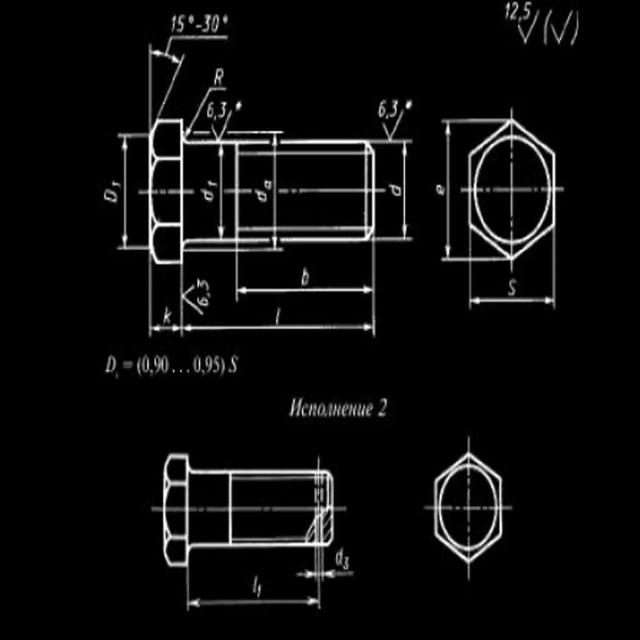marking_line: (181, 268, 378, 337), (233, 251, 380, 302), (465, 263, 557, 310), (375, 138, 413, 242), (441, 118, 467, 264), (118, 130, 147, 253), (147, 267, 185, 337), (164, 27, 230, 55), (269, 134, 279, 247), (216, 145, 226, 238)
numeric: (201, 12, 214, 33), (378, 397, 390, 418), (388, 98, 398, 119), (510, 0, 520, 21), (211, 13, 221, 33), (218, 99, 227, 120), (161, 355, 170, 375), (206, 102, 215, 121), (197, 276, 210, 289), (523, 0, 531, 21), (378, 98, 385, 120), (153, 354, 161, 373), (193, 355, 201, 373), (171, 14, 178, 33), (205, 356, 212, 375), (197, 296, 210, 306), (212, 355, 219, 373), (177, 14, 183, 34), (143, 355, 150, 372), (110, 181, 123, 190), (505, 0, 510, 21), (207, 181, 219, 189)
special_symbol: (184, 570, 326, 611), (146, 42, 187, 117), (185, 83, 227, 138), (321, 549, 356, 579), (516, 9, 540, 45), (296, 547, 318, 581), (551, 10, 572, 44), (211, 109, 234, 139), (381, 112, 400, 142), (569, 12, 581, 48), (542, 9, 552, 46), (220, 356, 226, 377), (404, 99, 414, 109), (137, 355, 141, 377), (235, 101, 243, 111)
